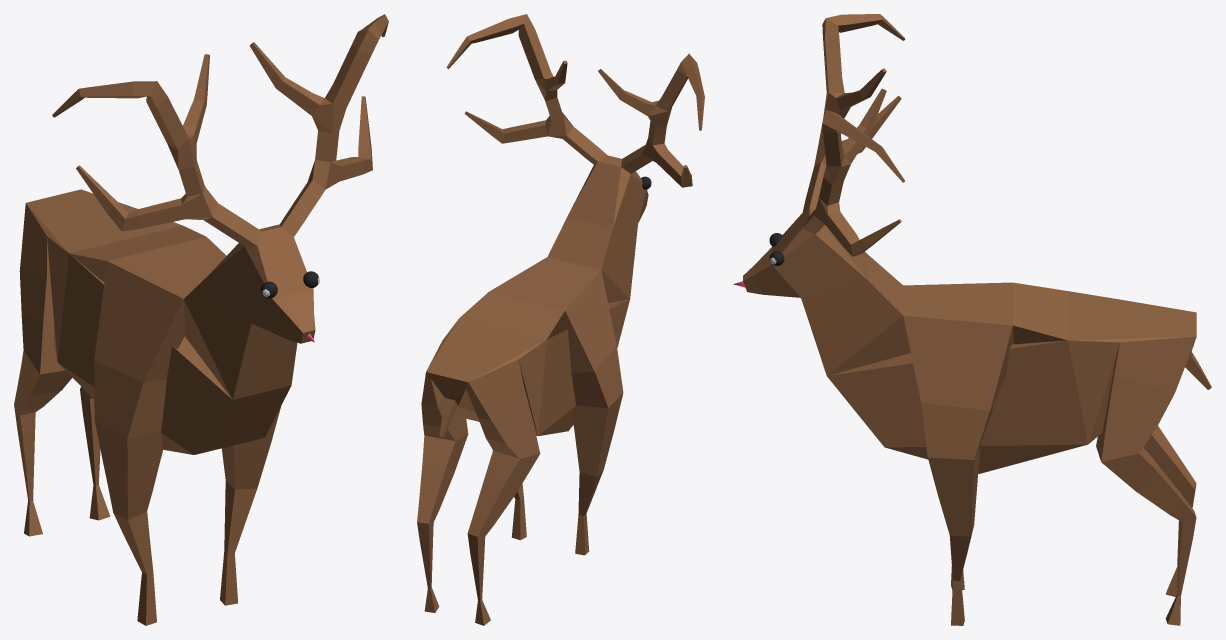
Rendered from sika.fbx.
3 views of the same model, side by side, from view 1: azimuth 30°, elevation 25°; view 2: azimuth 150°, elevation 25°; view 3: azimuth 270°, elevation 25° (orthographic). The views are drawn at different scales.
Parts seen in each view (by area): view 1: Plane; view 2: Plane; view 3: Plane.
Part boxes in pixels (<box>): Plane: <box>14,14,388,625</box>; Plane: <box>417,14,704,625</box>; Plane: <box>743,14,1211,625</box>.
Bounding box in the file's own units: 382 × 676 × 537.
